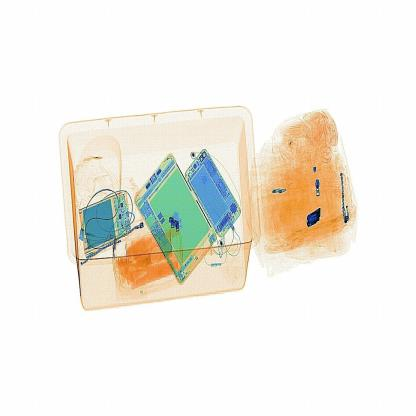knife: (304, 204, 325, 229)
